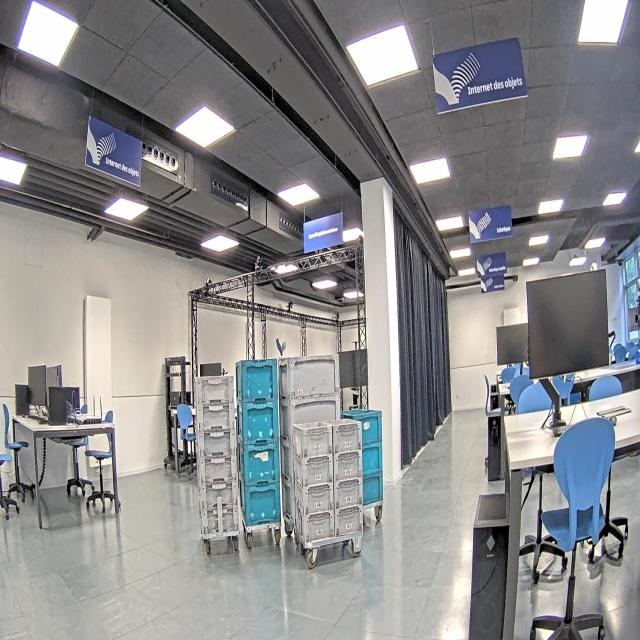Box3G: (195, 375, 240, 536)
Box4G: (278, 353, 342, 526)
Box8G: (292, 417, 363, 544)
BoxB4: (235, 358, 282, 527)
BoxB8: (340, 407, 384, 508)
